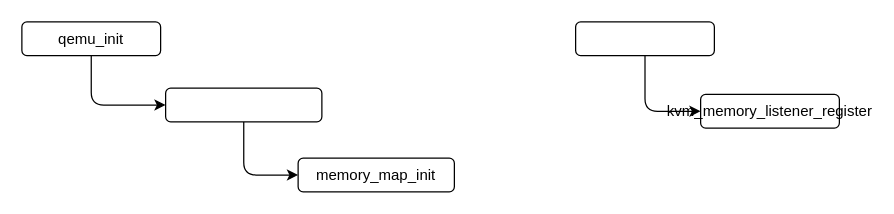
The diagram is 894 pixels wide and 214 high, and some of its shapes have lost their labels. The shapes that lost their labels are listed below. From the top down, each one's centre as x and y in pixels, then its label:
At point (644, 38): "kvm_init".
At point (243, 104): "cpu_exec_init_all".
